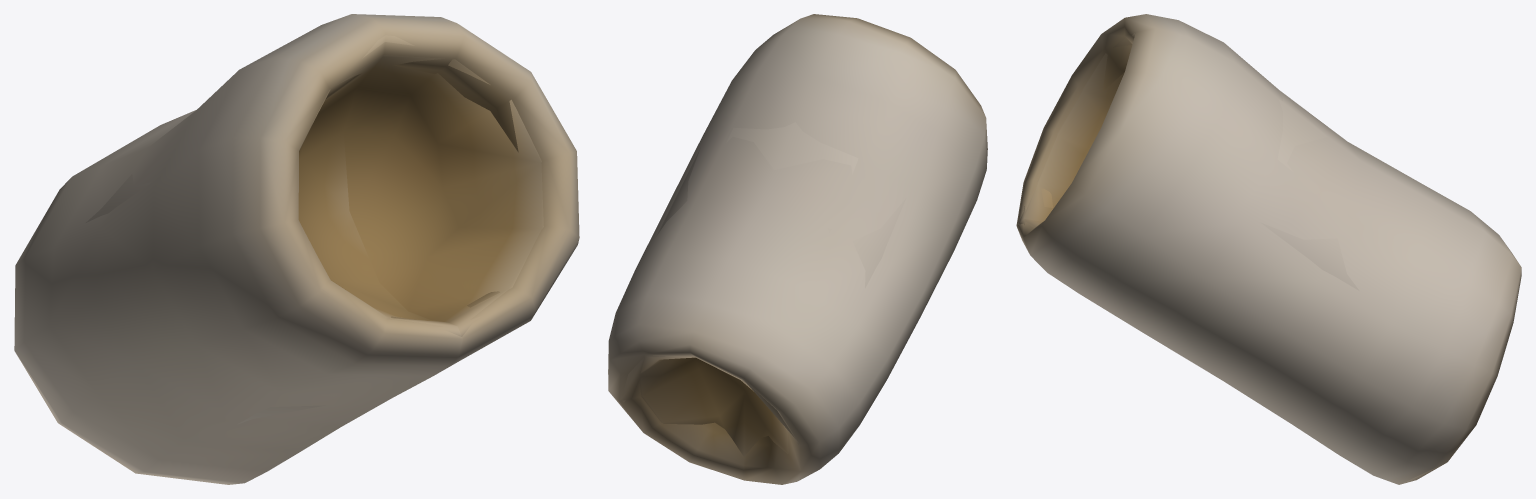
File: vertebrae caudales 10.fbx
The picture shows the model from 3 angles, left to right: view 1: azimuth 30°, elevation 25°; view 2: azimuth 150°, elevation 25°; view 3: azimuth 270°, elevation 25°; orthographic projection. The views are drawn at different scales.
Parts seen in each view (by area): view 1: vertebrae caudales 10, vertebrae caudales 10 low; view 2: vertebrae caudales 10, vertebrae caudales 10 low; view 3: vertebrae caudales 10, vertebrae caudales 10 low.
Boxes of the visible parts, x1,y1,x2,y2 form: vertebrae caudales 10: (14, 14, 579, 484); vertebrae caudales 10 low: (86, 35, 566, 424); vertebrae caudales 10: (608, 14, 987, 484); vertebrae caudales 10 low: (622, 122, 906, 456); vertebrae caudales 10: (1016, 14, 1521, 484); vertebrae caudales 10 low: (1018, 33, 1359, 290).
Bounding box in the file's own units: 0.8709 × 1.23 × 1.27.
Materials: 1 (1 with a texture image).
